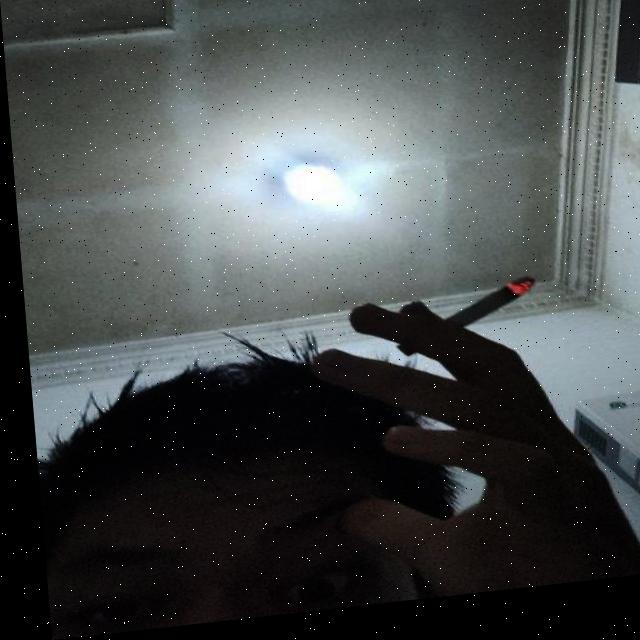cigarette: (387, 287, 530, 367)
